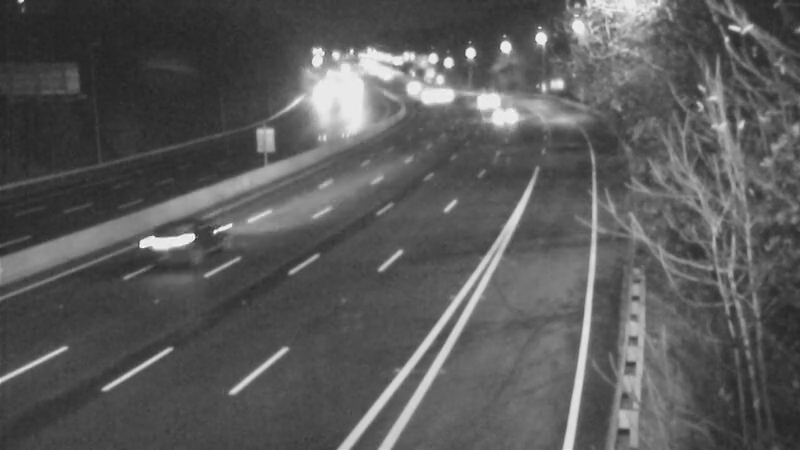vehicle: (124, 203, 204, 283), (402, 73, 452, 123), (450, 71, 500, 121), (469, 98, 519, 148)
